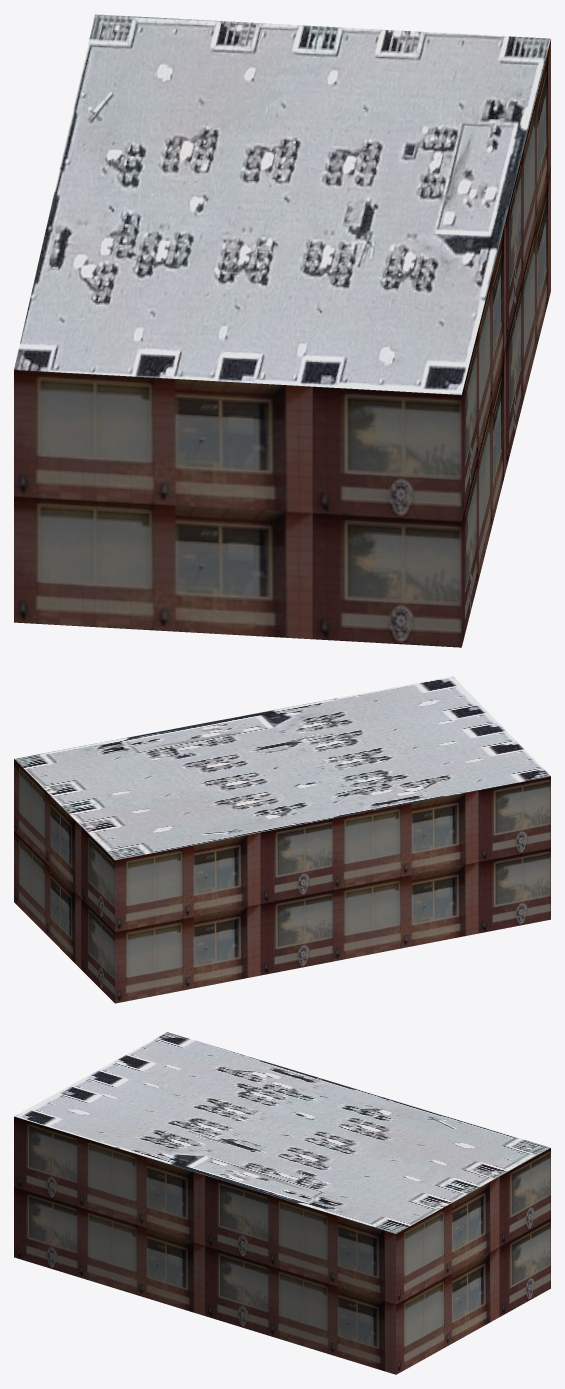
The model's file is ResTex__1953.fbx.
3 views of the same model, one above another, from view 1: azimuth 30°, elevation 25°; view 2: azimuth 150°, elevation 25°; view 3: azimuth 270°, elevation 25° (orthographic). The views are drawn at different scales.
Parts seen in each view (by area): view 1: CityEngineMaterial_m, CityEngineMaterial_13_m; view 2: CityEngineMaterial_13_m, CityEngineMaterial_m; view 3: CityEngineMaterial_13_m, CityEngineMaterial_m.
Boxes of the visible parts, x1=… form: CityEngineMaterial_m: x1=14, y1=14, x2=550, y2=394; CityEngineMaterial_13_m: x1=14, y1=39, x2=550, y2=647; CityEngineMaterial_13_m: x1=14, y1=759, x2=550, y2=1003; CityEngineMaterial_m: x1=14, y1=676, x2=550, y2=860; CityEngineMaterial_13_m: x1=14, y1=1116, x2=550, y2=1374; CityEngineMaterial_m: x1=14, y1=1032, x2=550, y2=1233.
Bounding box in the file's own units: 18.44 × 6 × 20.73.
2 materials, 2 textured.
